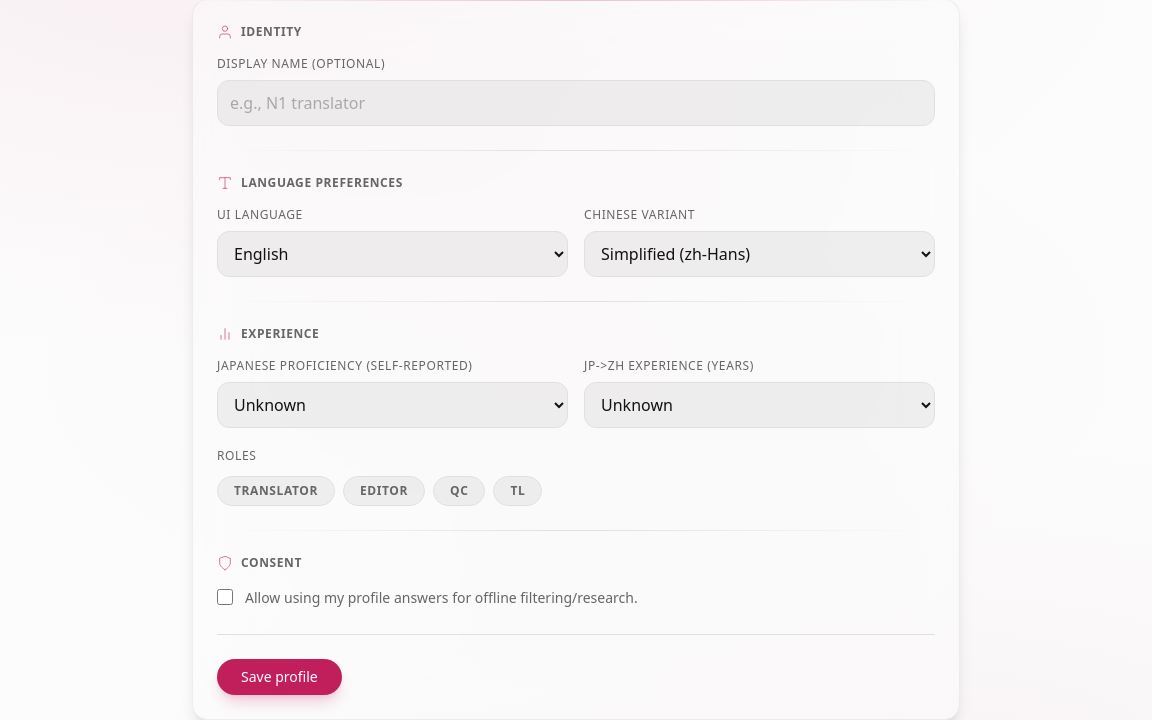
Scenario: OnboardingRoute › submits null-valued optional fields when profile stays at defaults
The image size is (1152, 720).
(page scrolled)
Click the button "Save profile": coordinates (279, 676) 217,658 -> 342,694
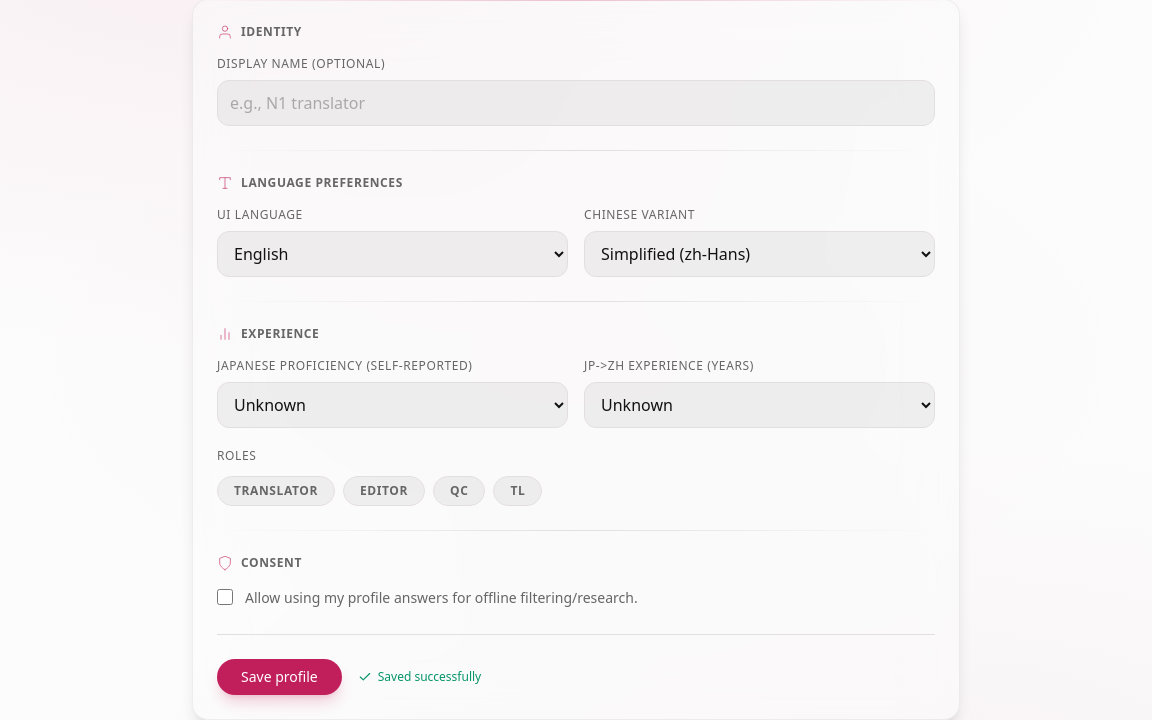
Check: the text "Saved successfully" is shown, box 358,668 -> 481,684
